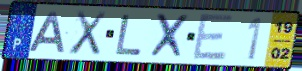1: (245, 17, 264, 63)
A: (27, 11, 68, 54)
E: (191, 12, 236, 62)
L: (114, 13, 145, 57)
X: (148, 12, 191, 60), (67, 9, 109, 57)
